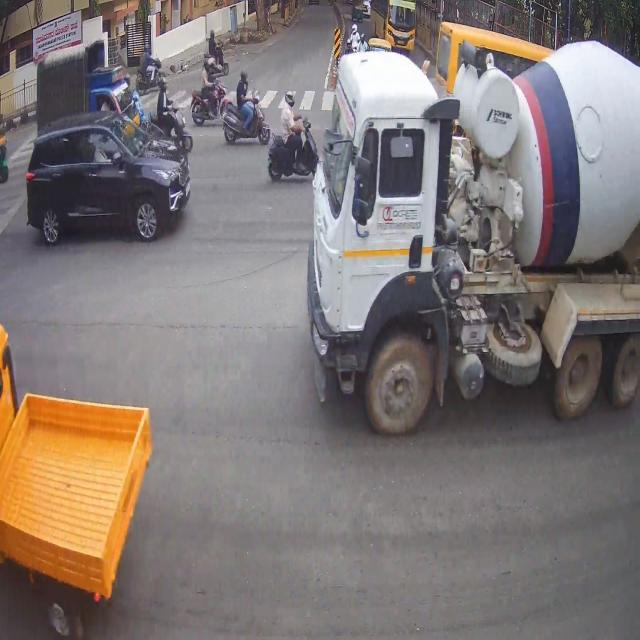Bus: (438, 21, 554, 89), (386, 0, 420, 56)
Car: (35, 128, 186, 242)
LCV: (41, 56, 143, 128)
Truck: (312, 67, 635, 430), (2, 335, 126, 609)
Two-wheelers: (271, 95, 312, 176), (225, 84, 263, 144), (162, 86, 194, 153), (194, 68, 230, 122)
